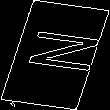N_E: (10, 30, 100, 80)
